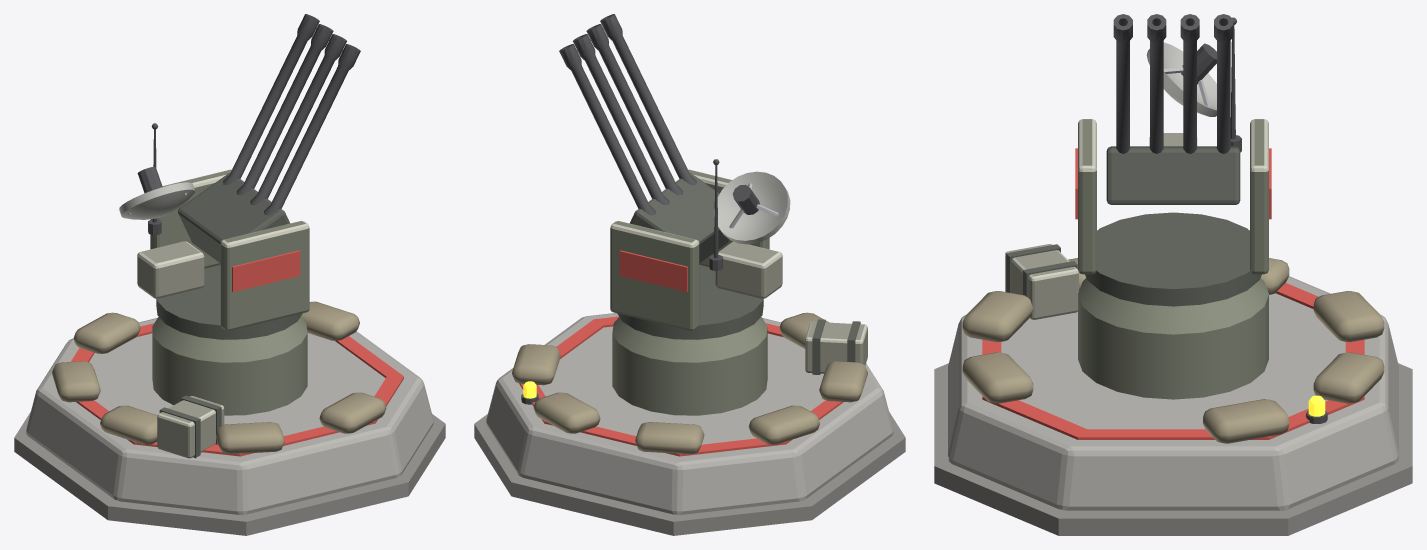
The model's file is flak_cannon_red.glb.
3 views of the same model, side by side, from view 1: azimuth 30°, elevation 25°; view 2: azimuth 150°, elevation 25°; view 3: azimuth 270°, elevation 25° (orthographic). The views are drawn at different scales.
Parts seen in each view (by area): view 1: Body, Turret, Barrel; view 2: Body, Turret, Barrel; view 3: Body, Turret, Barrel.
Boxes of the visible parts, x1=… form: Body: x1=14, y1=301, x2=445, y2=535; Turret: x1=119, y1=123, x2=309, y2=339; Barrel: x1=223, y1=14, x2=360, y2=215; Body: x1=474, y1=312, x2=905, y2=535; Turret: x1=610, y1=159, x2=790, y2=339; Barrel: x1=559, y1=14, x2=696, y2=215; Body: x1=934, y1=244, x2=1412, y2=535; Turret: x1=1075, y1=17, x2=1271, y2=306; Barrel: x1=1113, y1=14, x2=1233, y2=153.
Bounding box in the file's own units: 2 × 2.21 × 2.
Materials: 1 (1 with a texture image).
